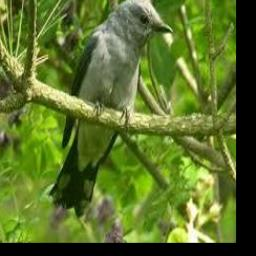Cuckoo: (49, 0, 173, 217)
